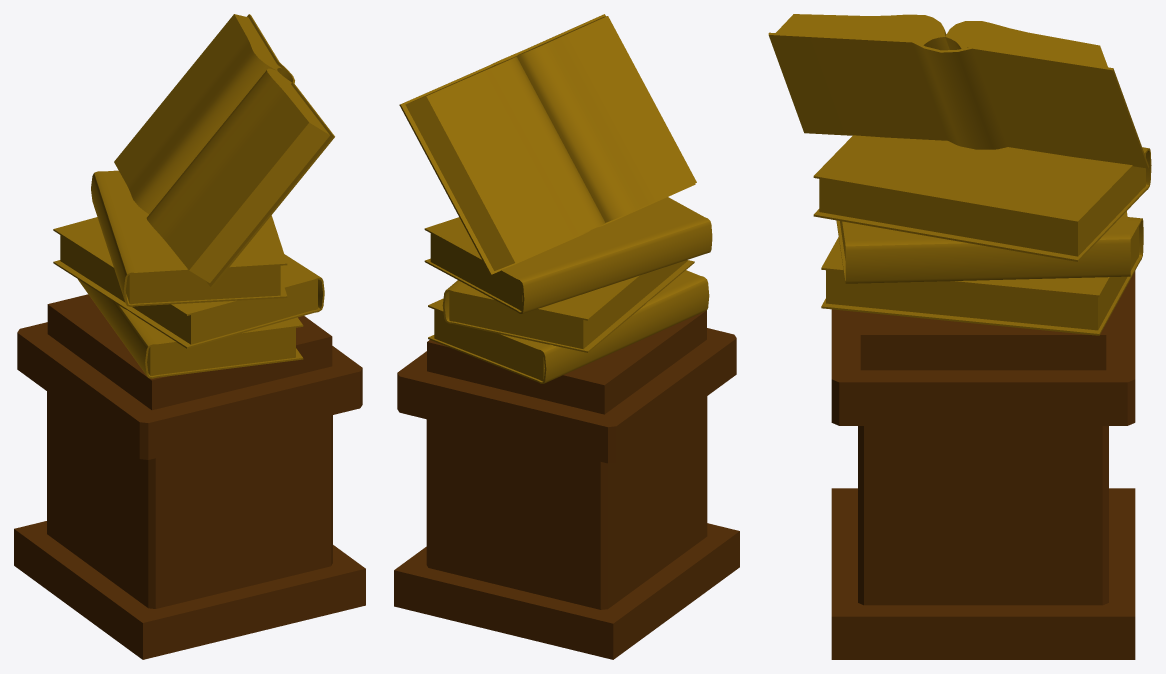
Rendered from Weight_Philosophy_final_Vanessa_01.fbx.
The picture shows the model from 3 angles, left to right: view 1: azimuth 30°, elevation 25°; view 2: azimuth 150°, elevation 25°; view 3: azimuth 270°, elevation 25°; orthographic projection. The views are drawn at different scales.
Visible parts, largest first — view 1: mesh_Philosophy_Base_Rest, mesh_Philosophy_Base_Name, MESH_Book_Open, MESH_Book_StandingUp2, MESH_Book_StandingUp3, MESH_Book_StandingUp1; view 2: mesh_Philosophy_Base_Rest, MESH_Book_Open, mesh_Philosophy_Base_Name, MESH_Book_StandingUp2, MESH_Book_StandingUp3, MESH_Book_StandingUp1; view 3: mesh_Philosophy_Base_Rest, mesh_Philosophy_Base_Name, MESH_Book_Open, MESH_Book_StandingUp2, MESH_Book_StandingUp1, MESH_Book_StandingUp3.
Part boxes in pixels (x1=…): mesh_Philosophy_Base_Rest: x1=14, y1=294, x2=365, y2=659; mesh_Philosophy_Base_Name: x1=47, y1=391, x2=332, y2=608; MESH_Book_Open: x1=114, y1=14, x2=334, y2=287; MESH_Book_StandingUp2: x1=91, y1=170, x2=287, y2=306; MESH_Book_StandingUp3: x1=53, y1=217, x2=324, y2=348; MESH_Book_StandingUp1: x1=78, y1=279, x2=303, y2=378; mesh_Philosophy_Base_Rest: x1=394, y1=310, x2=739, y2=659; MESH_Book_Open: x1=399, y1=14, x2=696, y2=274; mesh_Philosophy_Base_Name: x1=426, y1=396, x2=707, y2=609; MESH_Book_StandingUp2: x1=424, y1=197, x2=712, y2=313; MESH_Book_StandingUp3: x1=442, y1=260, x2=694, y2=352; MESH_Book_StandingUp1: x1=428, y1=270, x2=709, y2=383; mesh_Philosophy_Base_Rest: x1=831, y1=271, x2=1135, y2=659; mesh_Philosophy_Base_Name: x1=858, y1=426, x2=1108, y2=605; MESH_Book_Open: x1=768, y1=14, x2=1148, y2=168; MESH_Book_StandingUp2: x1=813, y1=135, x2=1151, y2=261; MESH_Book_StandingUp1: x1=821, y1=217, x2=1143, y2=335; MESH_Book_StandingUp3: x1=836, y1=211, x2=1130, y2=283.
Size of the model in its own units: 6.65 by 14.5 by 8.23.
